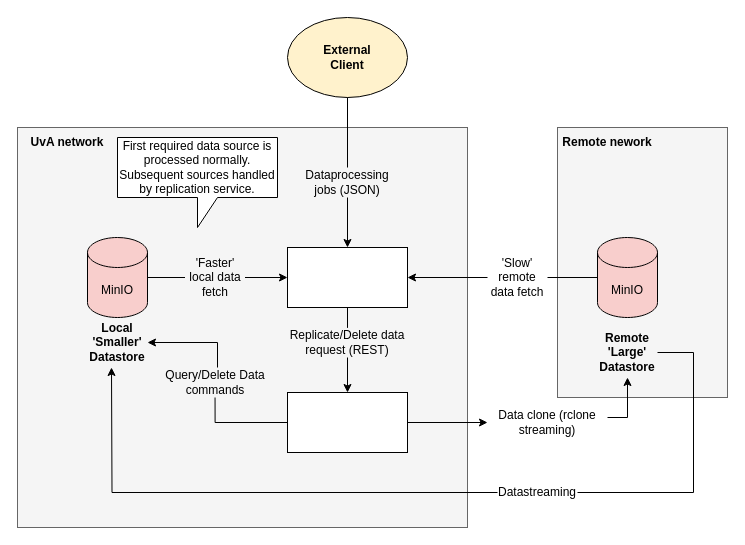
The diagram is 745 pixels wide and 545 high, and some of its shapes have lost their labels. Here are the shapes that lost their labels. From the top down, the centre of each, then its label:
At (x=347, y=277): "Argo Workflow controller".
At (x=347, y=422): "Replication service(s)".
